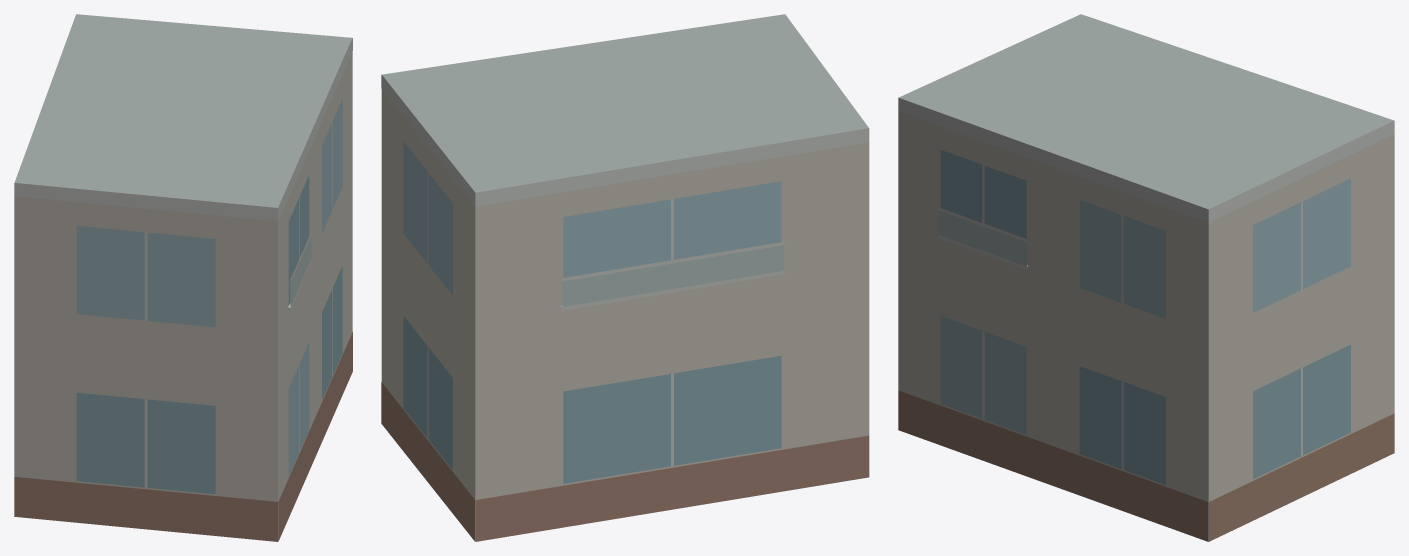
Rendered from survey-upis-32906268.glb.
The picture shows the model from 3 angles, left to right: view 1: azimuth 30°, elevation 25°; view 2: azimuth 150°, elevation 25°; view 3: azimuth 270°, elevation 25°; orthographic projection. The views are drawn at different scales.
Parts seen in each view (by area): view 1: survey-upis-32906268.tmp; view 2: survey-upis-32906268.tmp; view 3: survey-upis-32906268.tmp.
Boxes of the visible parts, box(x1,y1,x2,y2) form: survey-upis-32906268.tmp: box(14, 14, 352, 541); survey-upis-32906268.tmp: box(381, 14, 869, 541); survey-upis-32906268.tmp: box(898, 14, 1394, 541).
Bounding box in the file's own units: 7.7 × 6.1 × 8.26.
